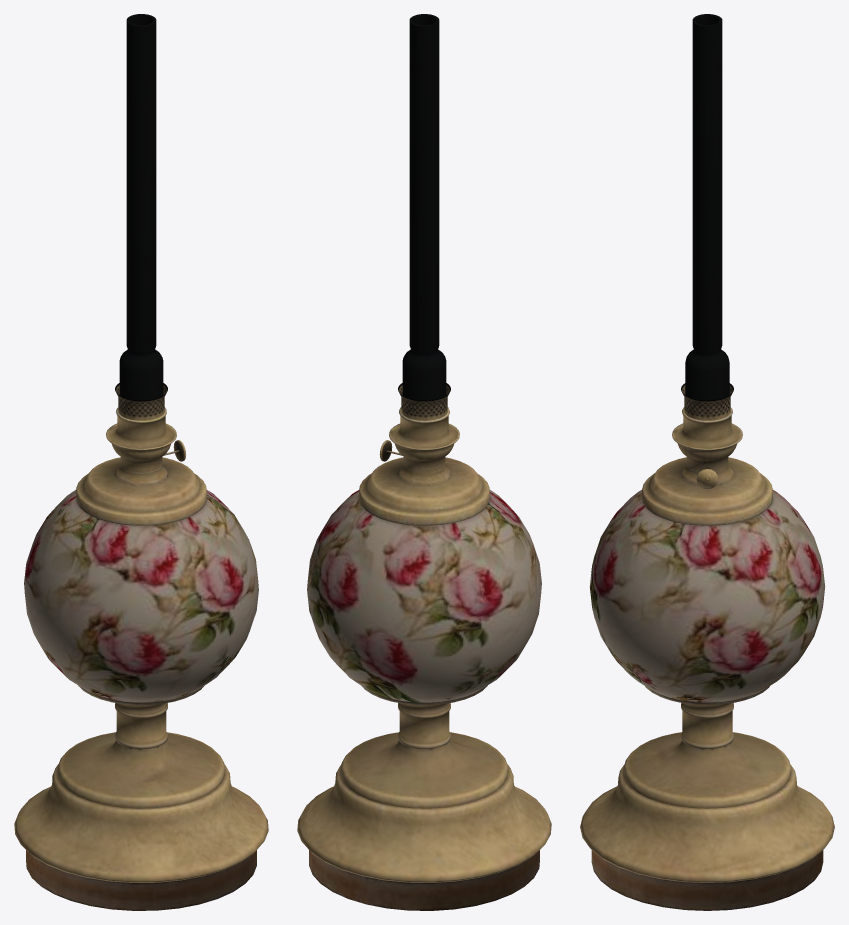
File: vintage_oil_lamp.glb
3 renders of one model, left to right at view 1: azimuth 30°, elevation 25°; view 2: azimuth 150°, elevation 25°; view 3: azimuth 270°, elevation 25°, orthographic.
Parts seen in each view (by area): view 1: vintage_oil_lamp, vintage_oil_lamp_glass; view 2: vintage_oil_lamp, vintage_oil_lamp_glass; view 3: vintage_oil_lamp, vintage_oil_lamp_glass.
Boxes of the visible parts, x1,y1,x2,y2 form: vintage_oil_lamp: (14,407,268,910); vintage_oil_lamp_glass: (115,14,167,420); vintage_oil_lamp: (297,407,551,910); vintage_oil_lamp_glass: (398,14,450,420); vintage_oil_lamp: (580,407,834,910); vintage_oil_lamp_glass: (681,14,733,420).
Bounding box in the file's own units: 0.22 × 0.8016 × 0.22.
3 materials, 3 textured.
